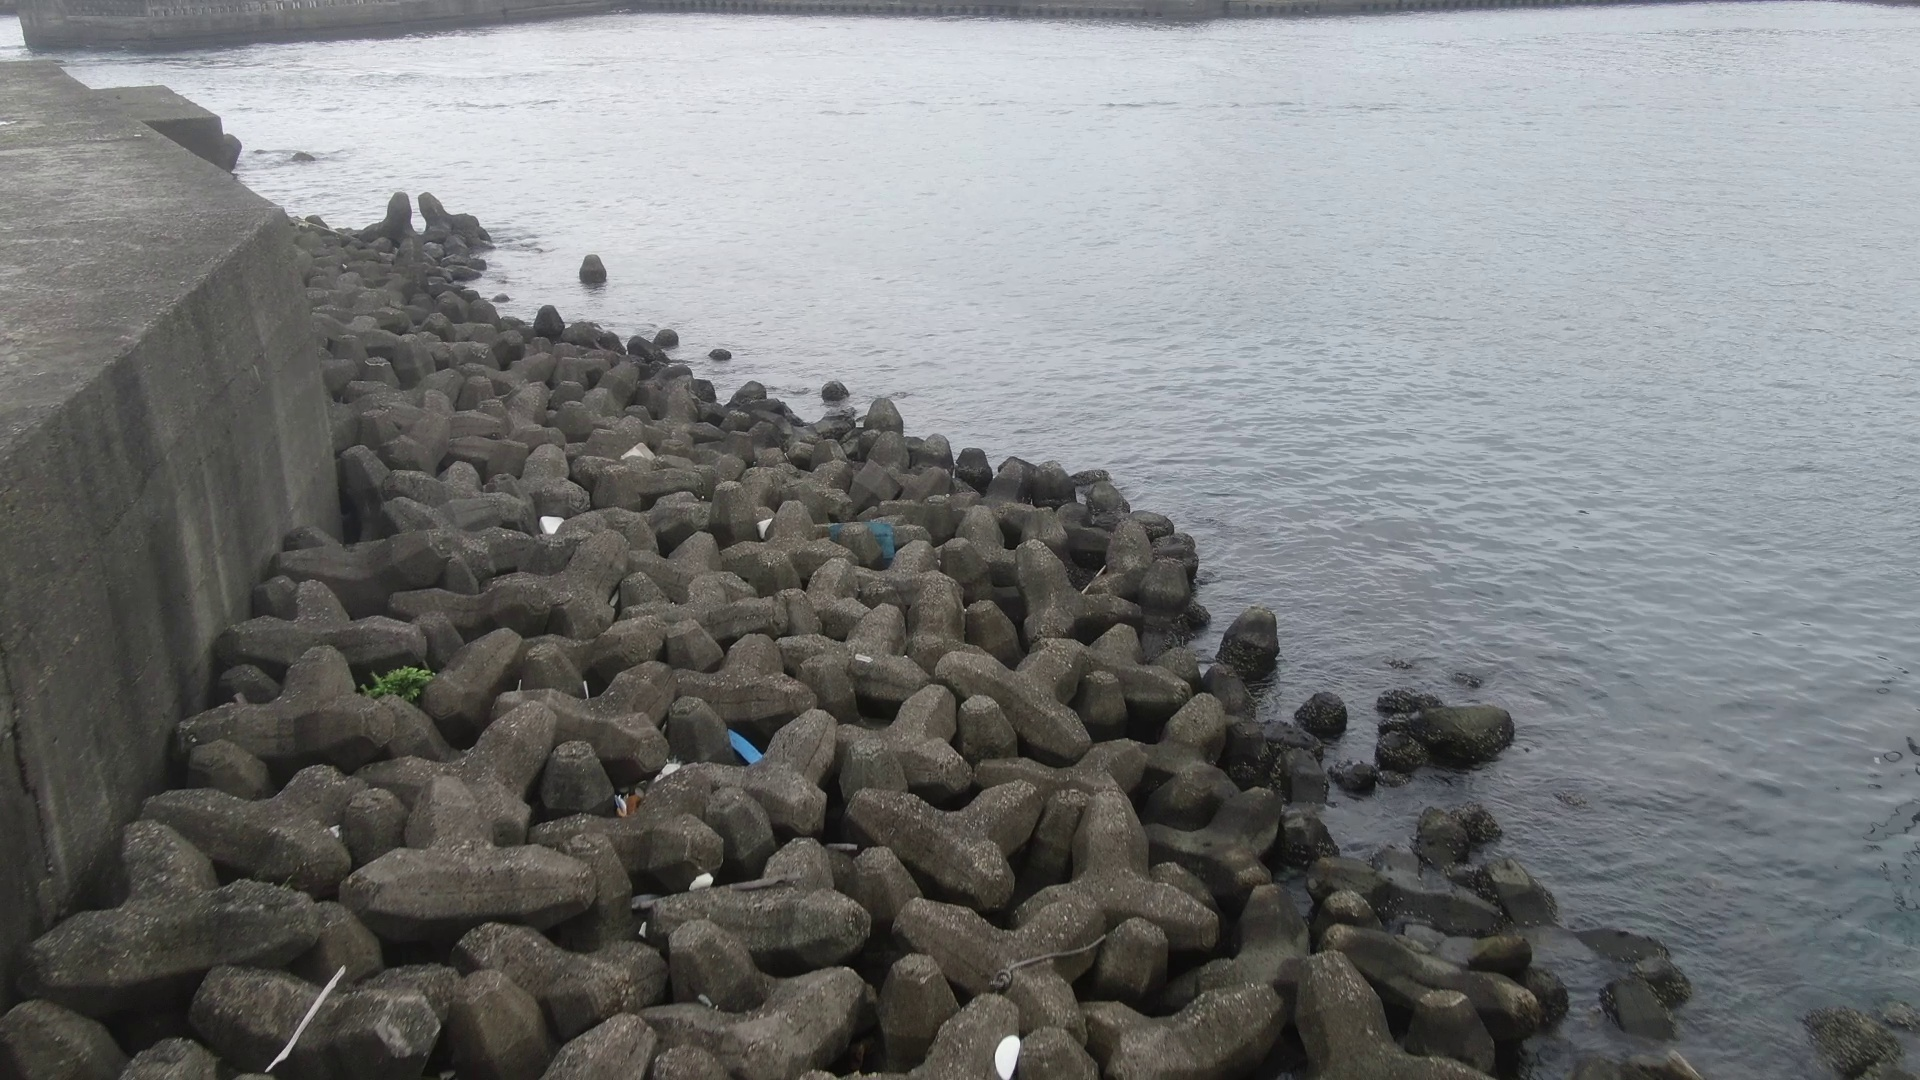garbage: (605, 756, 684, 820), (825, 517, 902, 560), (717, 727, 775, 771), (989, 1029, 1029, 1080), (611, 438, 659, 468), (537, 513, 570, 542), (687, 869, 716, 894)
